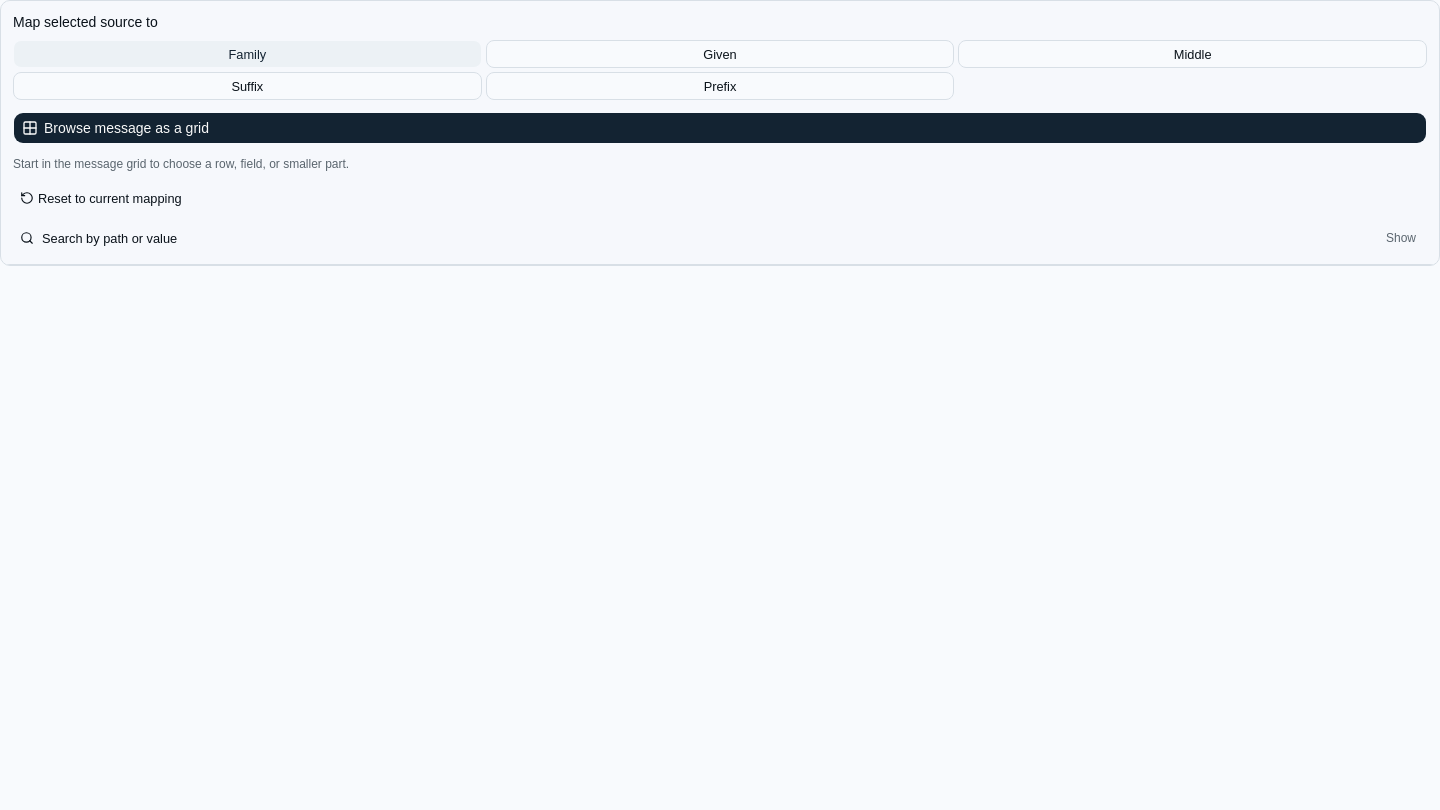
Test case: HL7 source browser › does not preview an empty current source hidden by grid options
This screenshot has width=1440, height=810.
Click the button "Browse message as a grid": [126, 128] box [13,112,1427,144]
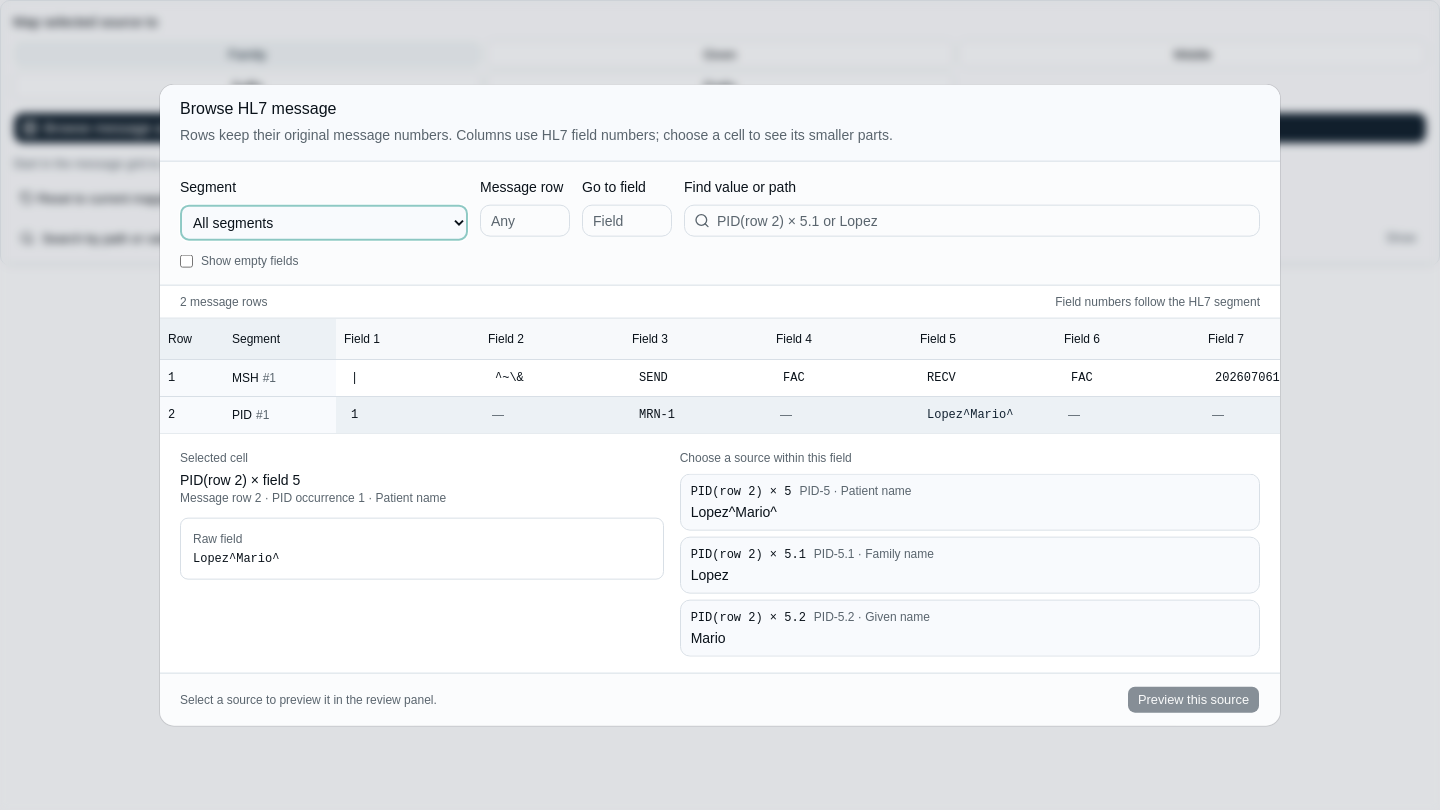
Check: the button "Preview this source" is disabled, box [1127,685,1260,713]
